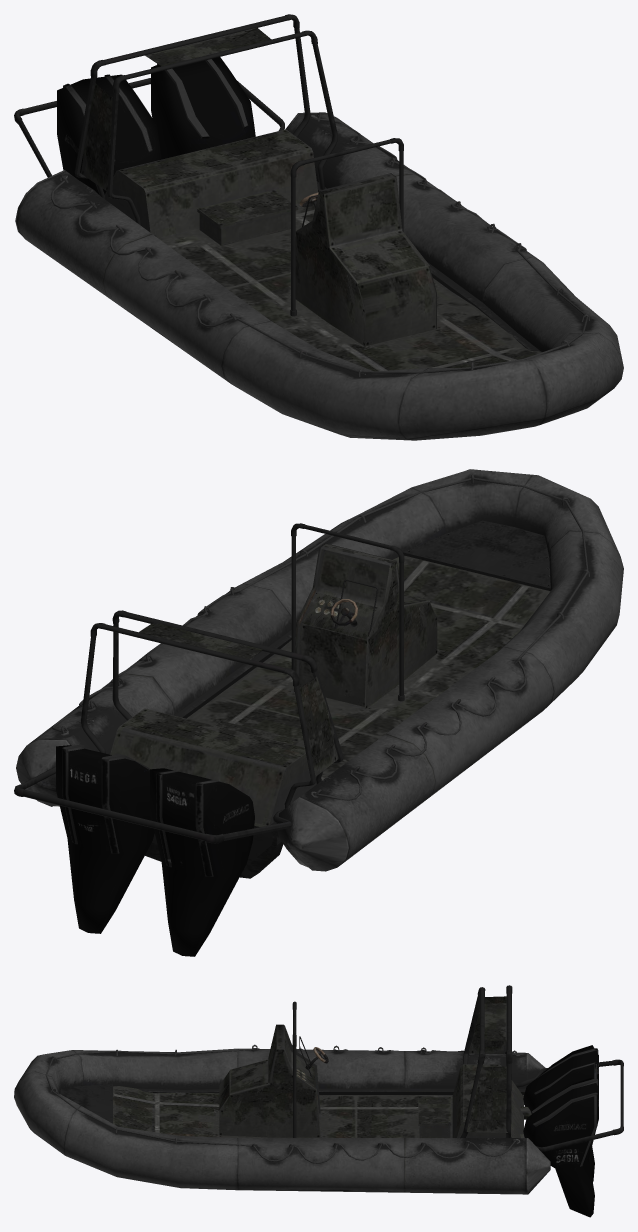
Rendered from mboat.glb.
3 views of the same model, one above another, from view 1: azimuth 30°, elevation 25°; view 2: azimuth 150°, elevation 25°; view 3: azimuth 270°, elevation 25° (orthographic). The views are drawn at different scales.
Parts seen in each view (by area): view 1: Motar_boat1; view 2: Motar_boat1; view 3: Motar_boat1.
Boxes of the visible parts, bbox=[...] form: Motar_boat1: bbox=[14, 14, 623, 440]; Motar_boat1: bbox=[14, 469, 623, 956]; Motar_boat1: bbox=[14, 985, 623, 1217].
Bounding box in the file's own units: 4.12 × 3.01 × 9.3.
1 material, 1 textured.
